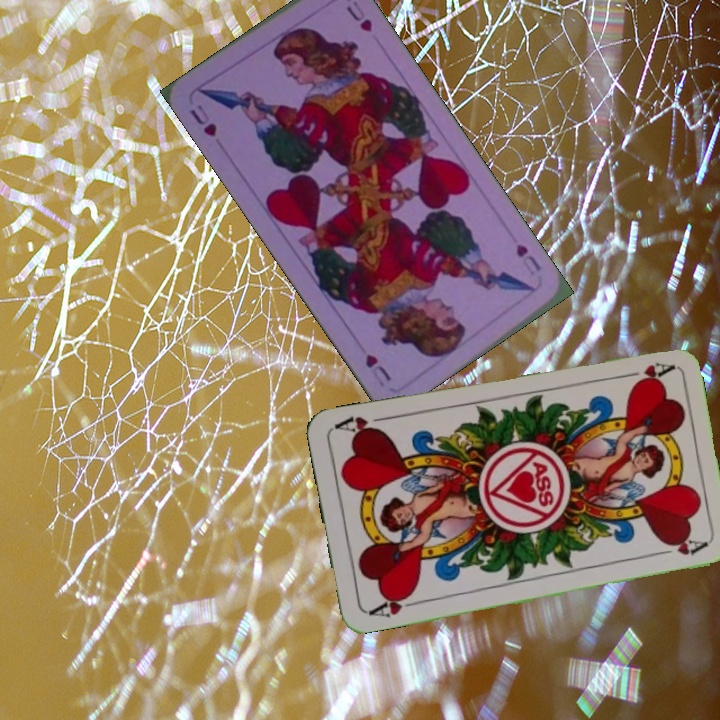HA: (364, 589, 422, 621), (616, 358, 675, 388)
HU: (185, 100, 220, 140), (512, 240, 544, 278)
